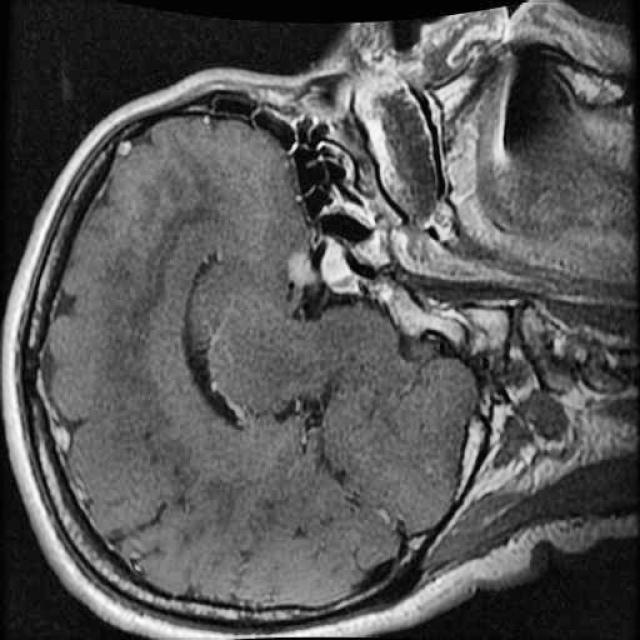Tumor: (314, 228, 375, 309)
